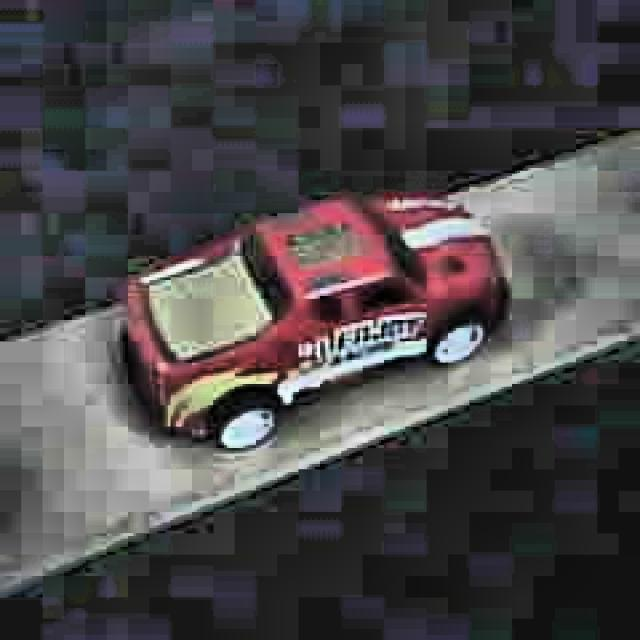car: (116, 183, 510, 454)
